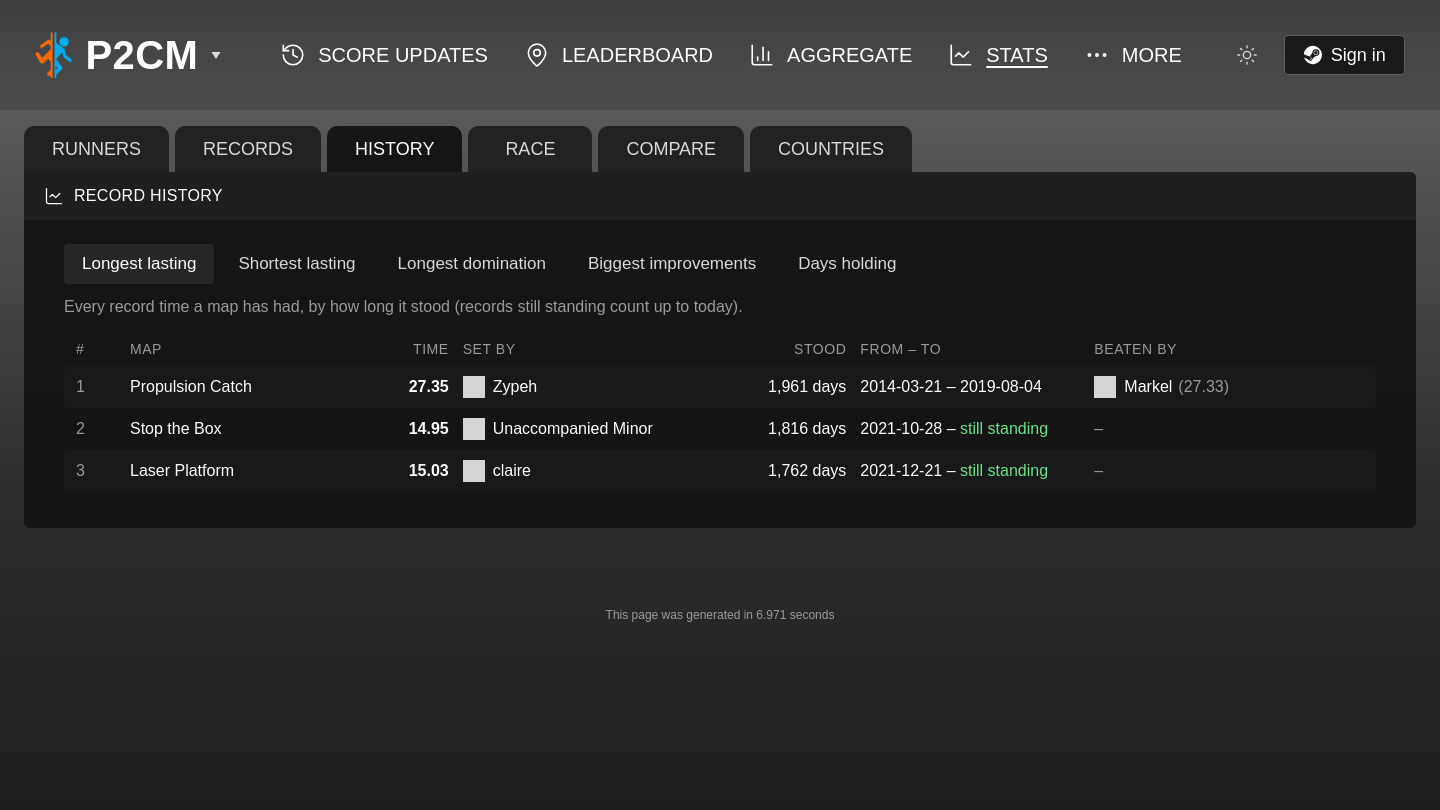
Stats: History › shows Longest domination (?view=domination)
Click the radio button labelled "Longest domination" at (472,264), box [380, 244, 564, 284]
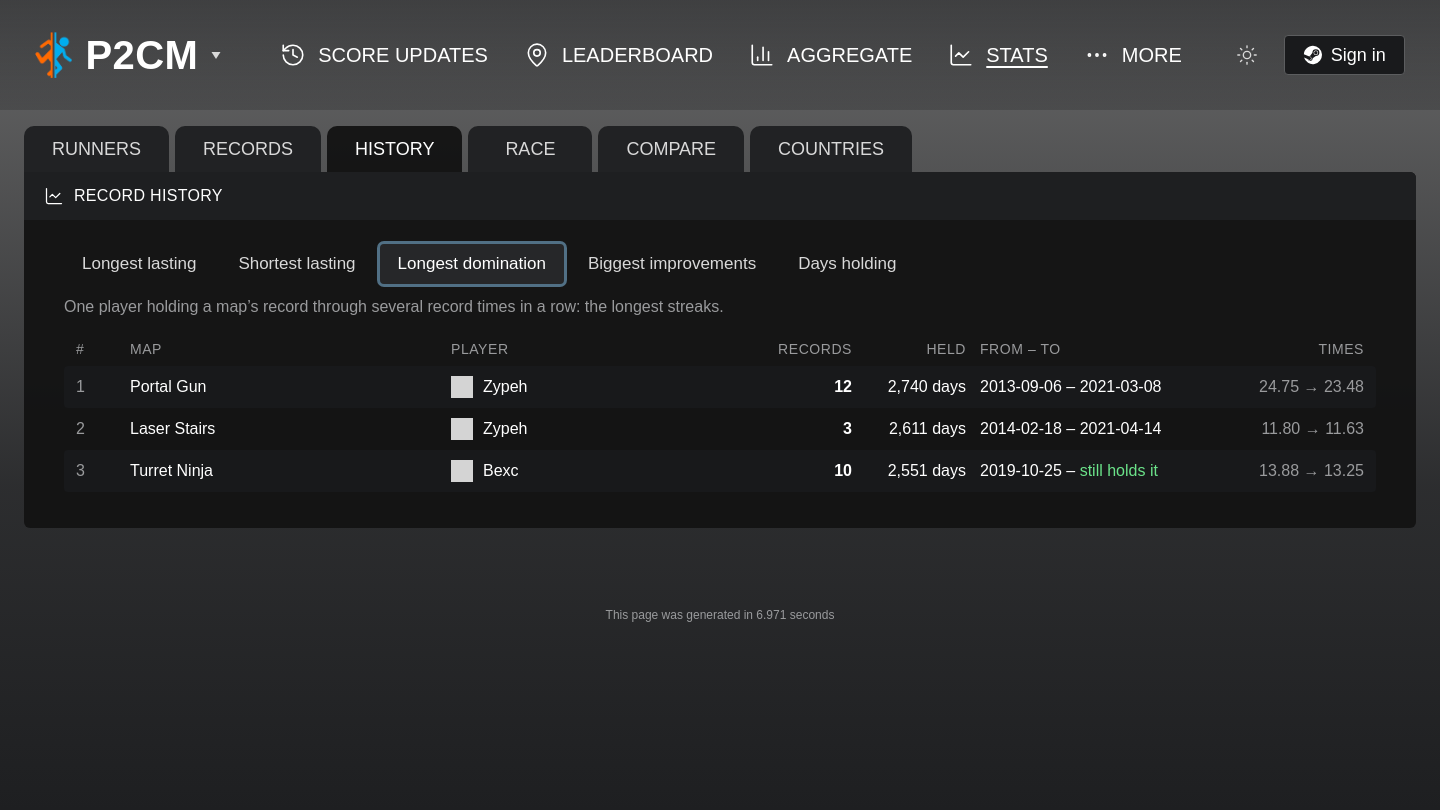
Result: the link "Turret Ninja" is shown at [130, 462, 213, 479]
